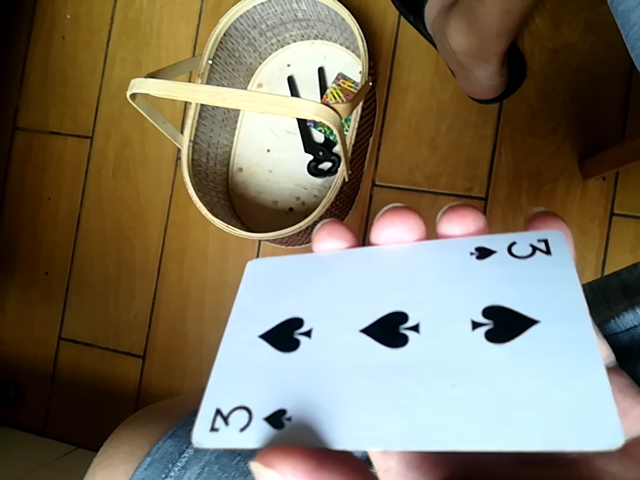ht 3: (191, 226, 614, 452)
